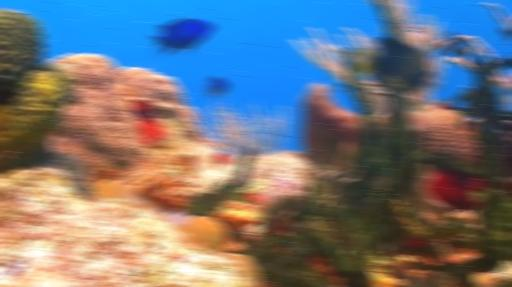Fish: (360, 37, 431, 92), (151, 18, 214, 54), (206, 77, 229, 98)
